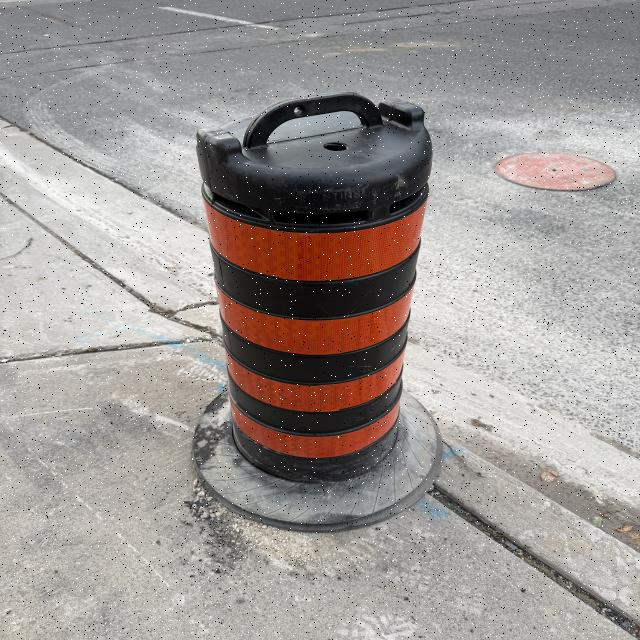Teraffic Barrel: (196, 93, 438, 483)
